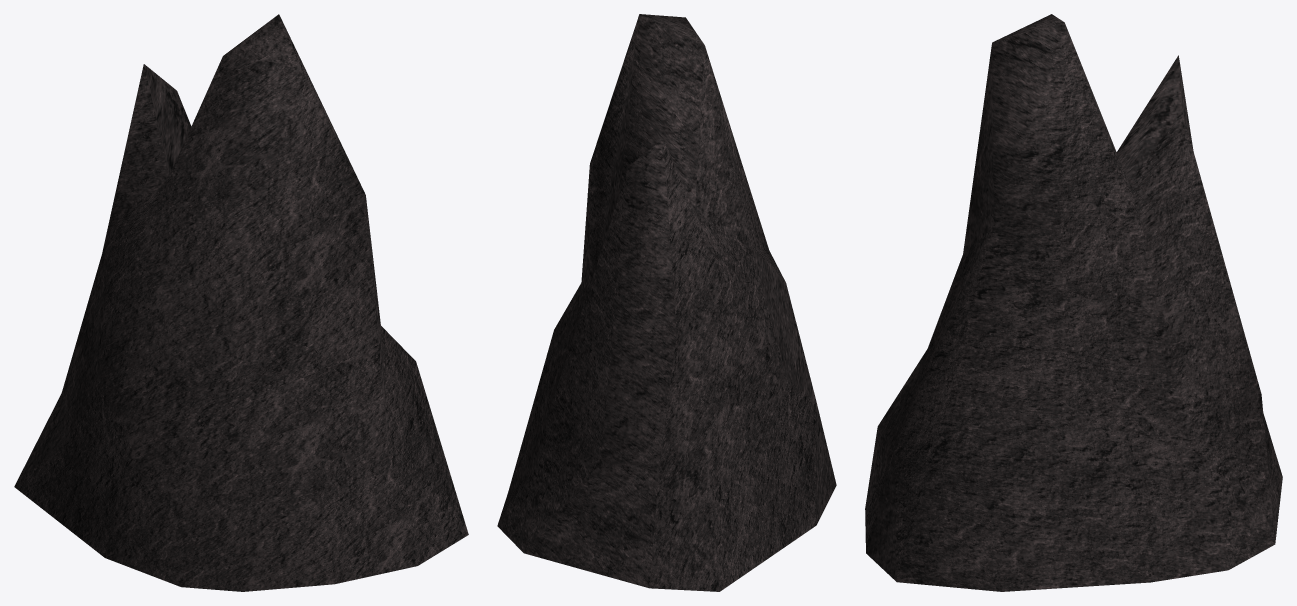
File: rock02.fbx
3 views of the same model, side by side, from view 1: azimuth 30°, elevation 25°; view 2: azimuth 150°, elevation 25°; view 3: azimuth 270°, elevation 25° (orthographic). The views are drawn at different scales.
Visible parts, largest first — view 1: Cube; view 2: Cube; view 3: Cube.
Boxes of the visible parts, x1,y1,x2,y2 form: Cube: (14, 14, 468, 591); Cube: (497, 14, 836, 591); Cube: (865, 14, 1282, 591).
Size of the model in its own units: 1.97 by 2.95 by 2.17.
